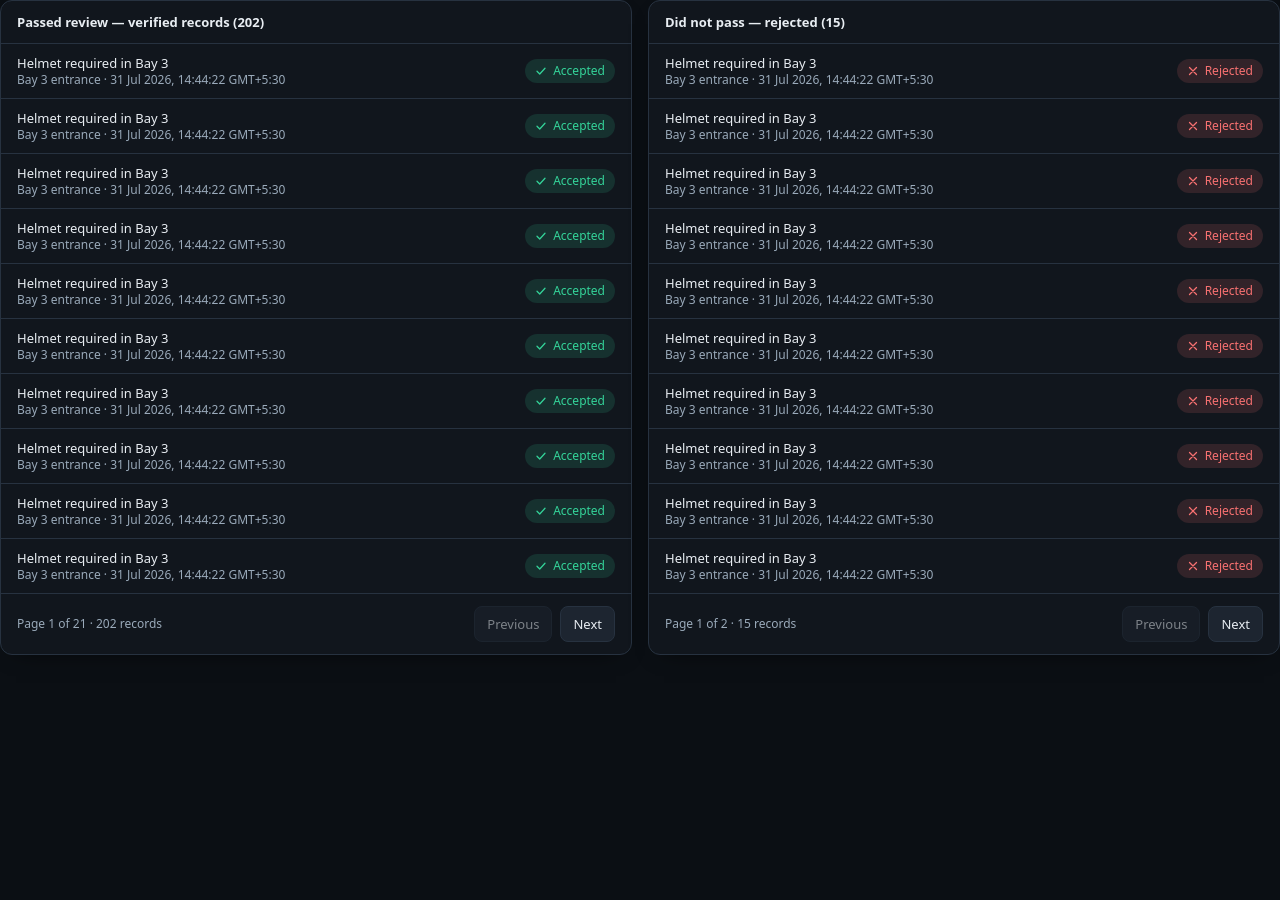
DecisionDrilldown › shows full totals but renders ten records per independent page
Expected: the heading "Passed review — verified records (202)" is shown, [1, 1, 631, 44]
Expected: the text "Page 1 of 21 · 202 records" is shown, [17, 616, 162, 632]
Click the button "Next" in the row of "21". click: (588, 624)
box: [560, 606, 615, 642]
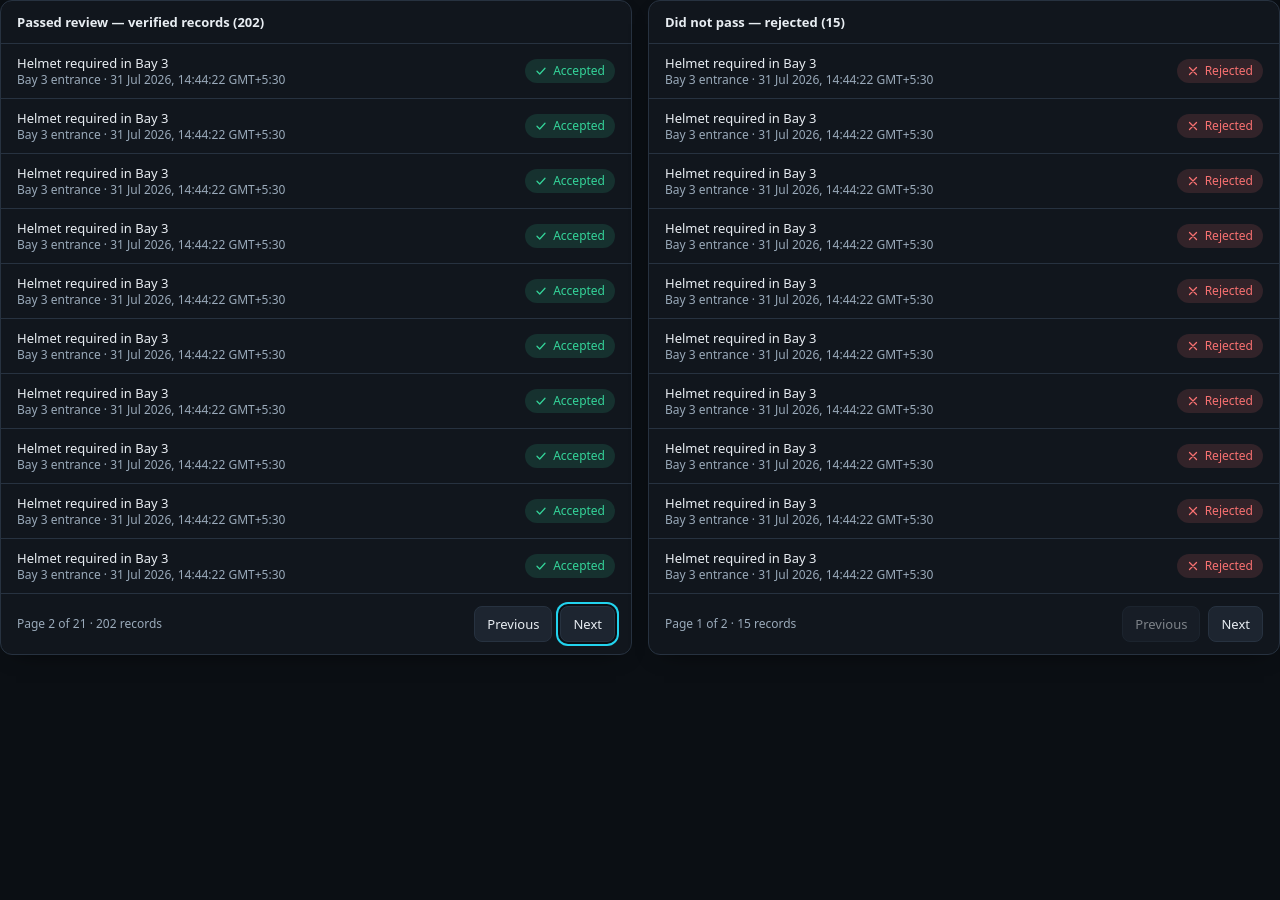
Expected: the text "Page 1 of 2 · 15 records" is shown, [665, 616, 796, 632]
Expected: the text "Page 2 of 21 · 202 records" is shown, [17, 616, 162, 632]
